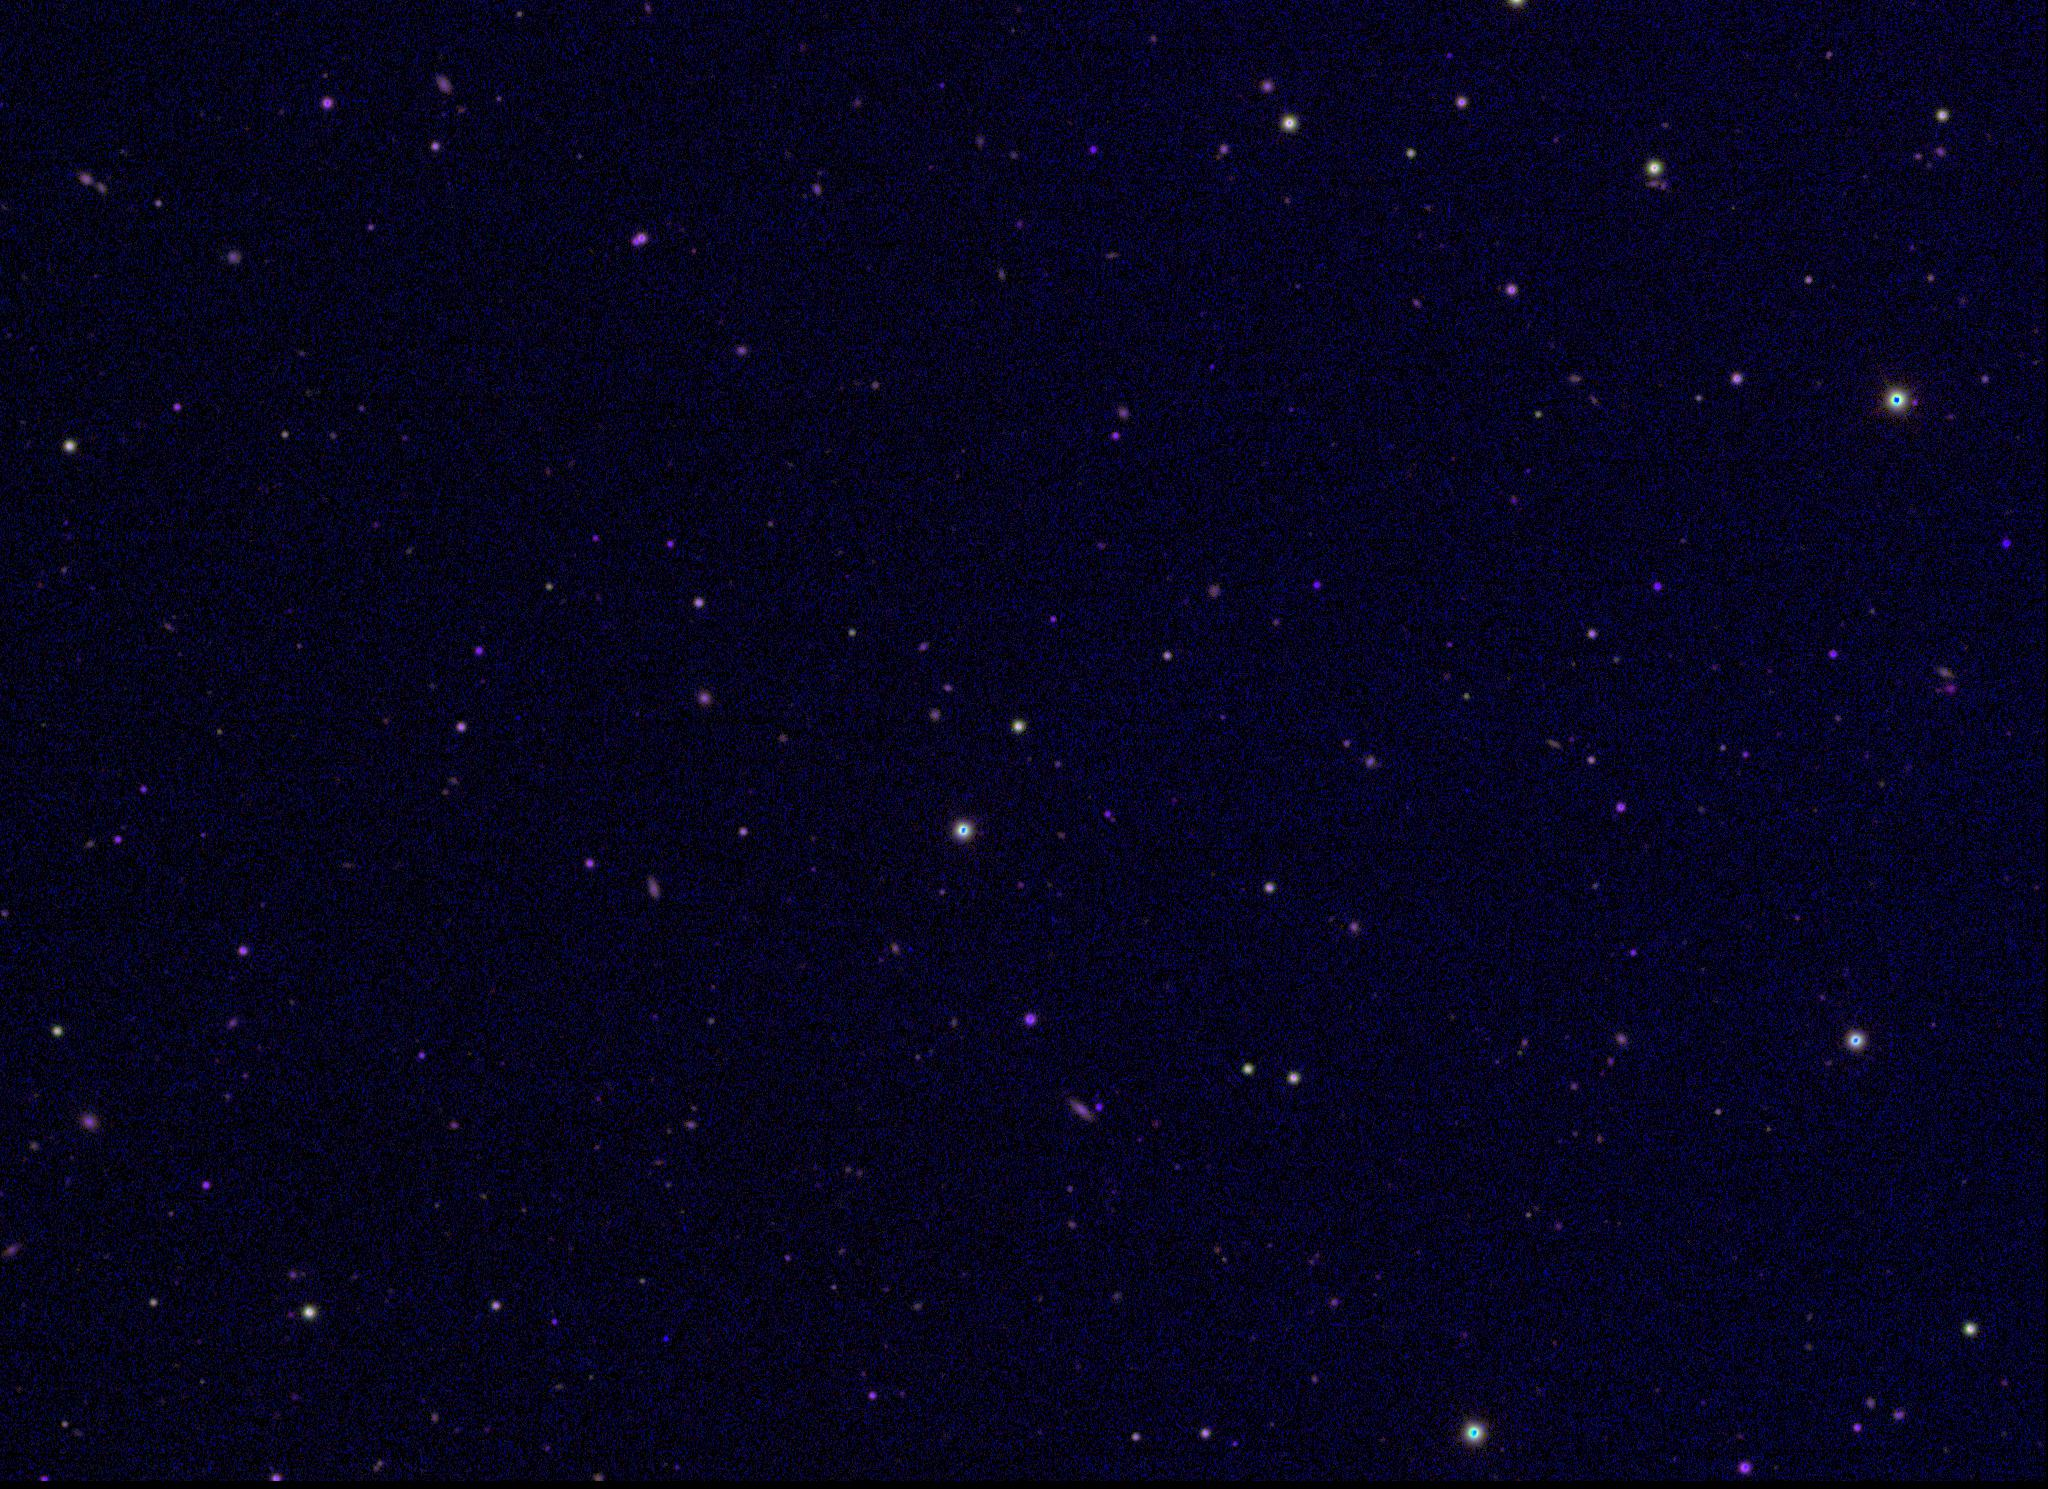L: (658, 1332, 673, 1346)
